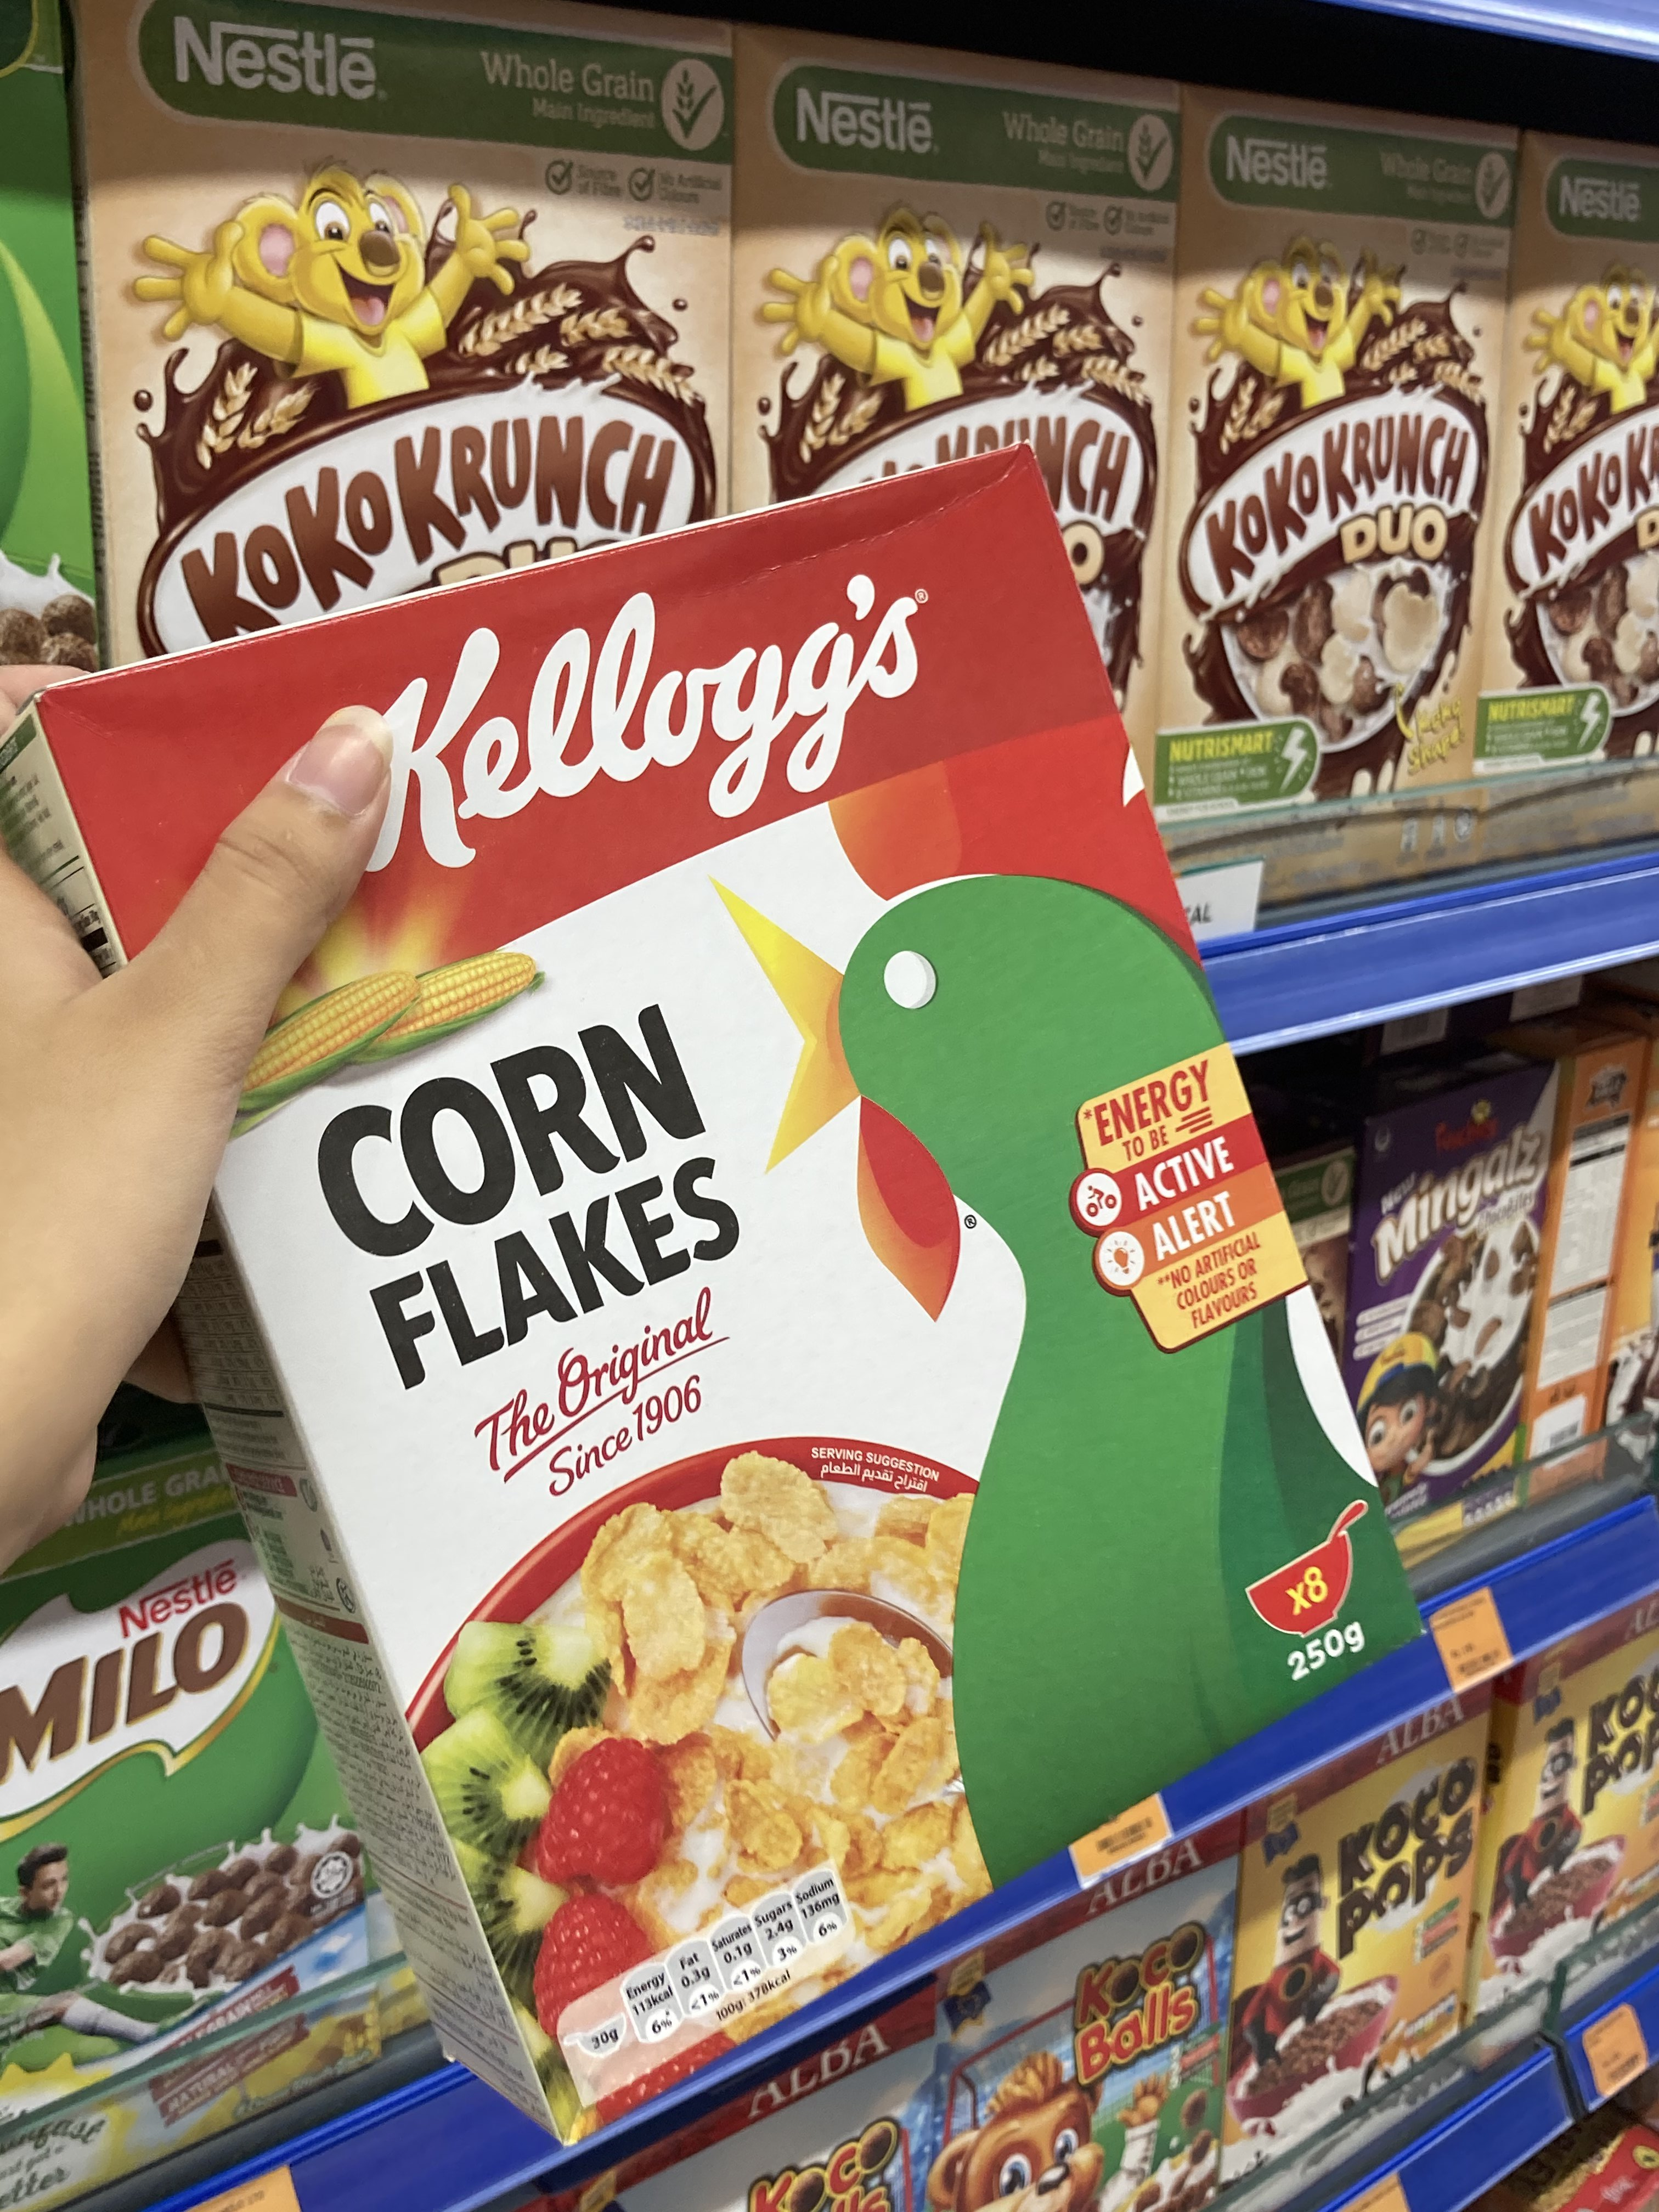Kellogg's Corn Flakes: (2, 448, 1434, 2141)
